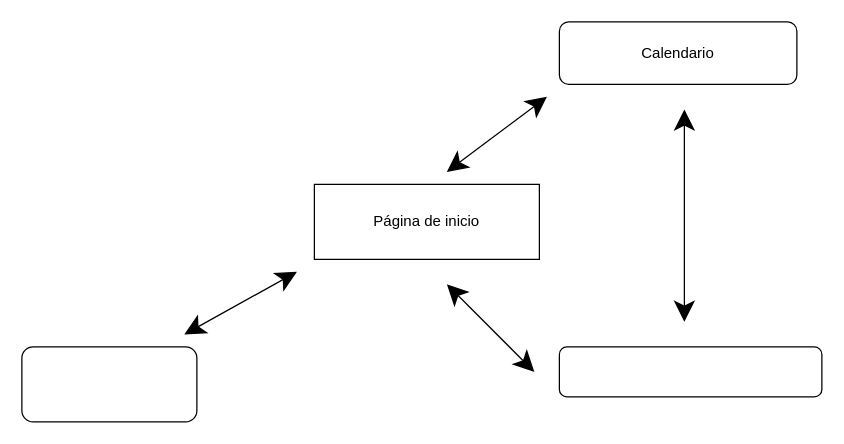
Some shapes in this 844 by 444 pixel diagram are drawn without their labels. Here are the shapes that lost their labels. From the top down, the box of each, then its label:
(21, 346, 197, 422): Nuestra musica
(558, 346, 822, 397): Tienda
